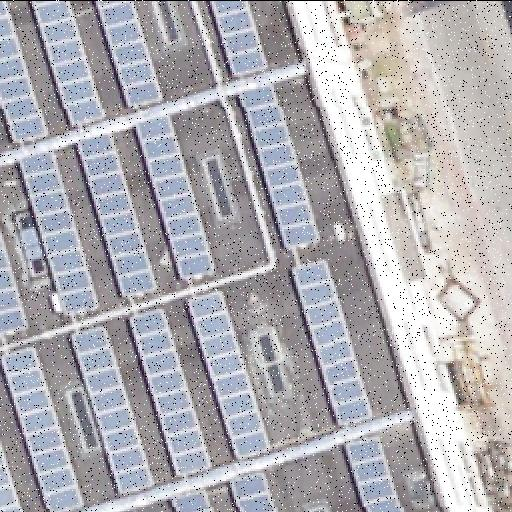solar-panel: (127, 307, 217, 477), (70, 322, 158, 494), (1, 344, 87, 512), (186, 287, 270, 457), (134, 112, 218, 280), (74, 130, 158, 298), (18, 149, 102, 315), (291, 255, 373, 425), (239, 80, 321, 248), (29, 1, 107, 127), (94, 0, 166, 108), (0, 0, 48, 144), (340, 432, 404, 512), (208, 1, 264, 79), (1, 221, 31, 331), (228, 465, 276, 511), (1, 441, 23, 511), (170, 484, 214, 512)
